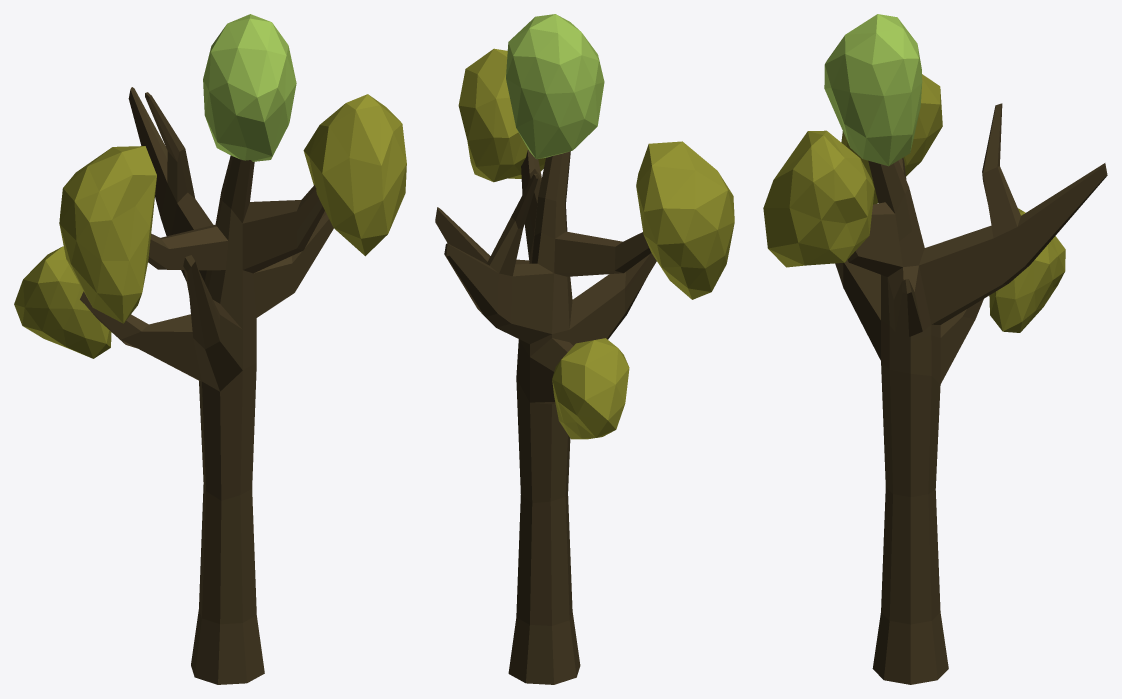
The model's file is TreeSmall.fbx.
3 views of the same model, side by side, from view 1: azimuth 30°, elevation 25°; view 2: azimuth 150°, elevation 25°; view 3: azimuth 270°, elevation 25° (orthographic). The views are drawn at different scales.
Parts seen in each view (by area): view 1: TreeSmall; view 2: TreeSmall; view 3: TreeSmall.
Boxes of the visible parts, bbox=[...] form: TreeSmall: bbox=[14, 14, 406, 684]; TreeSmall: bbox=[435, 14, 734, 684]; TreeSmall: bbox=[763, 14, 1107, 684].
Size of the model in its own units: 138 by 290 by 138.
